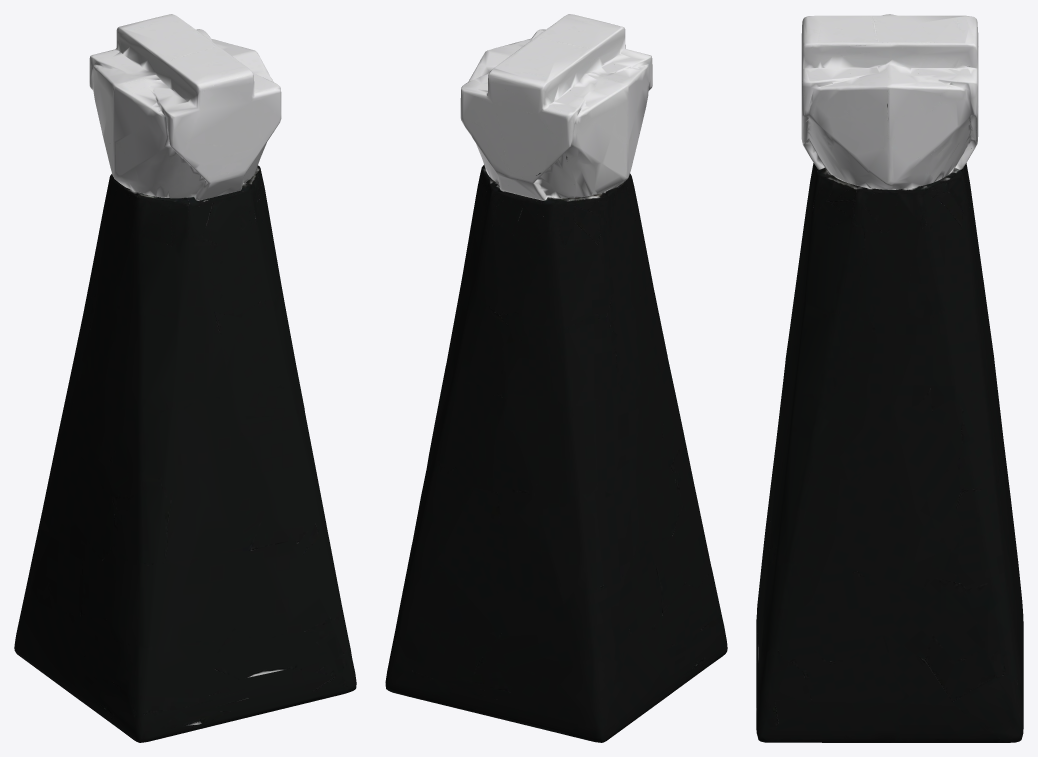
File: rook-black.glb
The picture shows the model from 3 angles, left to right: view 1: azimuth 30°, elevation 25°; view 2: azimuth 150°, elevation 25°; view 3: azimuth 270°, elevation 25°; orthographic projection. The views are drawn at different scales.
Size of the model in its own units: 0.4609 by 1.25 by 0.4592.
Materials: 1 (1 with a texture image).
